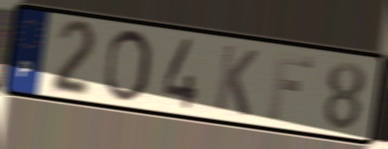2: (49, 17, 98, 100)
4: (161, 36, 199, 112)
8: (320, 57, 369, 134)
F: (265, 50, 316, 122)
K: (212, 42, 261, 119)
O: (100, 27, 154, 105)
